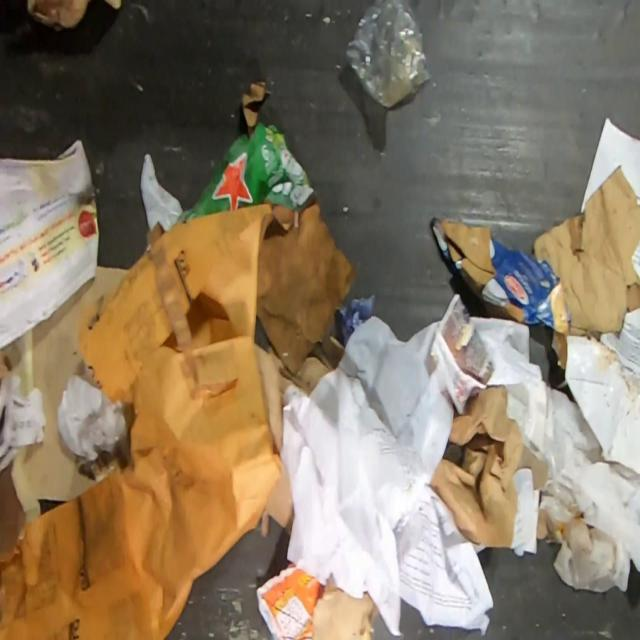cardboard: (173, 81, 355, 377), (533, 164, 640, 478), (11, 263, 130, 523), (254, 314, 346, 539), (431, 216, 572, 334), (0, 459, 26, 556), (23, 0, 93, 34)
rigid_plastic: (345, 0, 432, 110)
